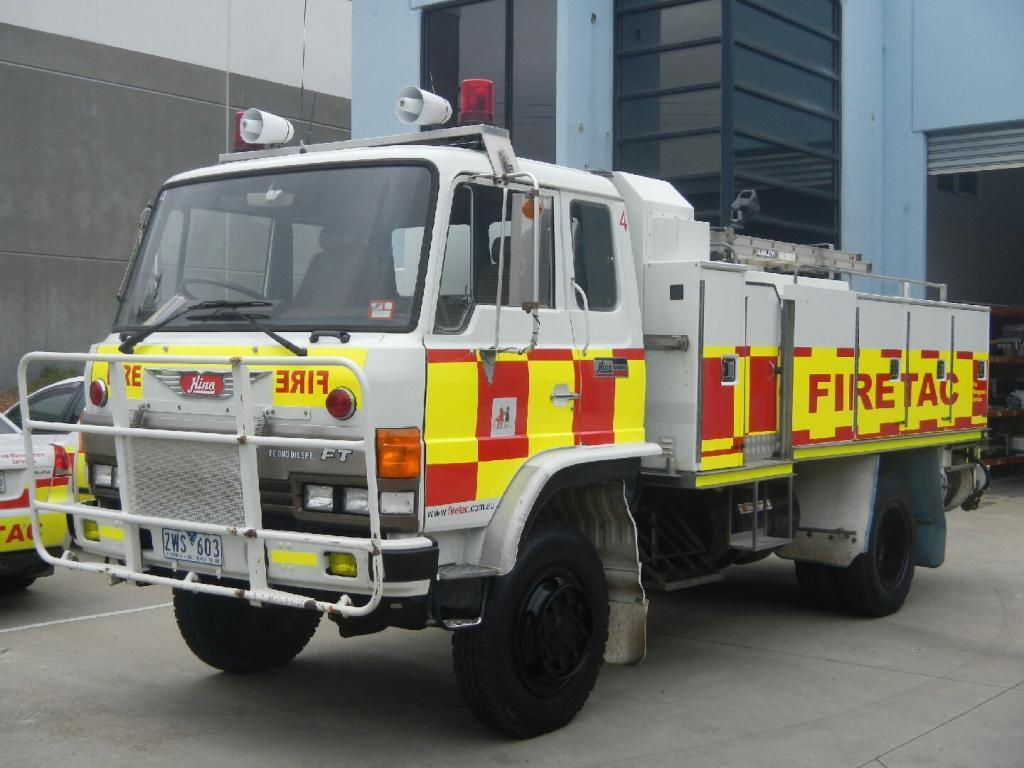Fire-engine: (0, 95, 994, 743)
